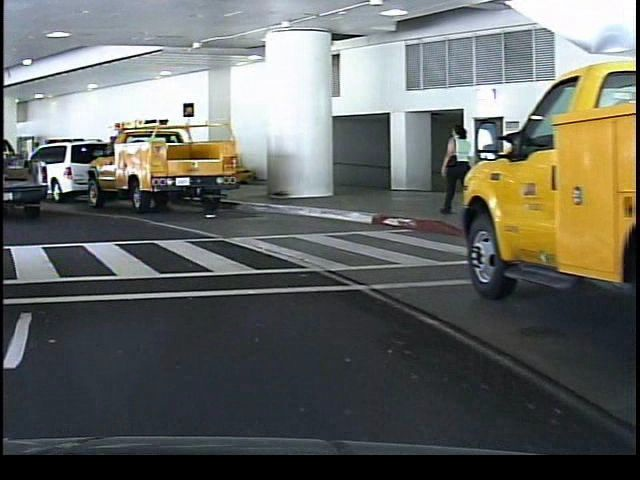person: (433, 119, 467, 217)
